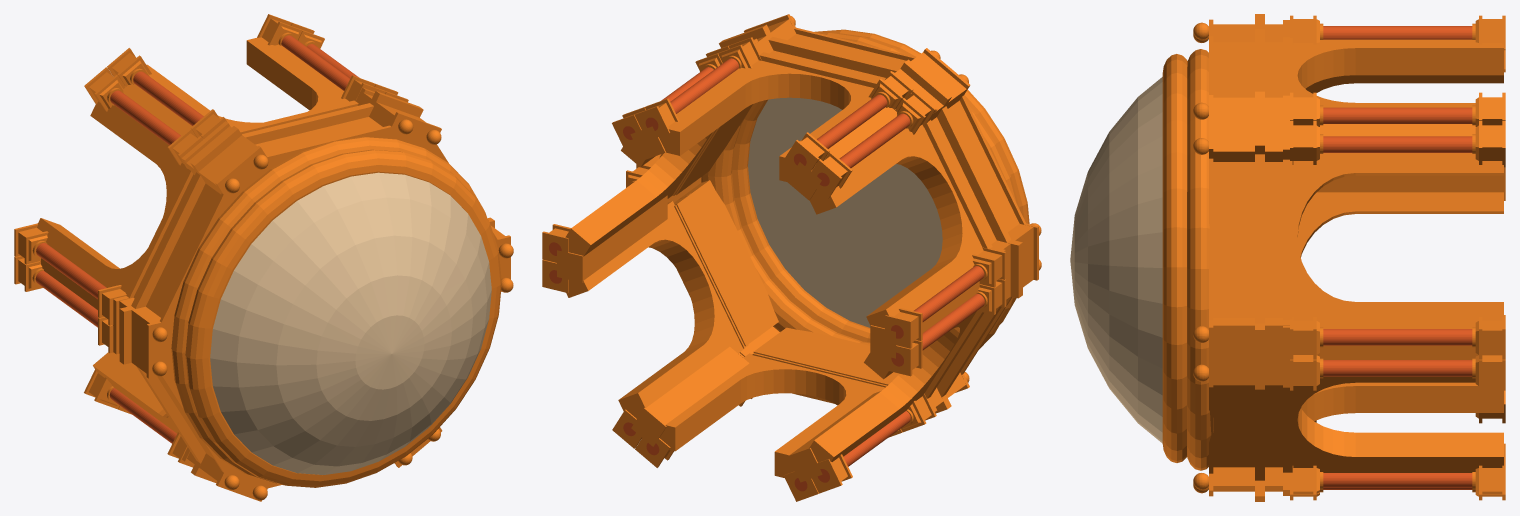
Rendered from tinker.obj.
3 views of the same model, side by side, from view 1: azimuth 30°, elevation 25°; view 2: azimuth 150°, elevation 25°; view 3: azimuth 270°, elevation 25° (orthographic). The views are drawn at different scales.
Parts seen in each view (by area): view 1: group_16089887, group_14860437, group_14900002; view 2: group_16089887, group_14860437, group_14900002; view 3: group_16089887, group_14860437, group_14900002.
Part boxes in pixels (x1,y1,x2,y2): group_16089887: (14, 14, 513, 501); group_14860437: (210, 172, 491, 474); group_14900002: (35, 35, 359, 443); group_16089887: (542, 14, 1041, 501); group_14860437: (748, 97, 942, 327); group_14900002: (549, 58, 984, 491); group_16089887: (1162, 14, 1505, 501); group_14860437: (1070, 77, 1162, 443); group_14900002: (1323, 26, 1472, 489).
Size of the model in its own units: 145 by 135 by 130.
